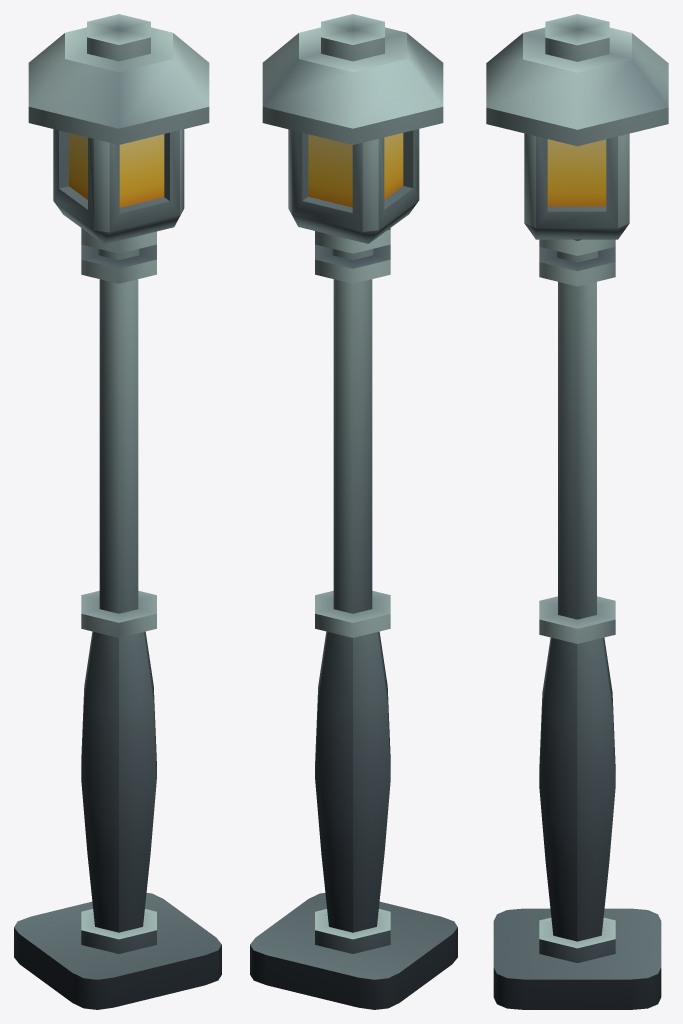
File: street_light_single_2.fbx
3 views of the same model, side by side, from view 1: azimuth 30°, elevation 25°; view 2: azimuth 150°, elevation 25°; view 3: azimuth 270°, elevation 25° (orthographic).
Visible parts, largest first — view 1: street_light_single_2; view 2: street_light_single_2; view 3: street_light_single_2.
Boxes of the visible parts, x1,y1,x2,y2 form: street_light_single_2: [14, 14, 221, 1009]; street_light_single_2: [250, 14, 457, 1009]; street_light_single_2: [486, 14, 668, 1009].
Bounding box in the file's own units: 62.63 × 311 × 54.24.
